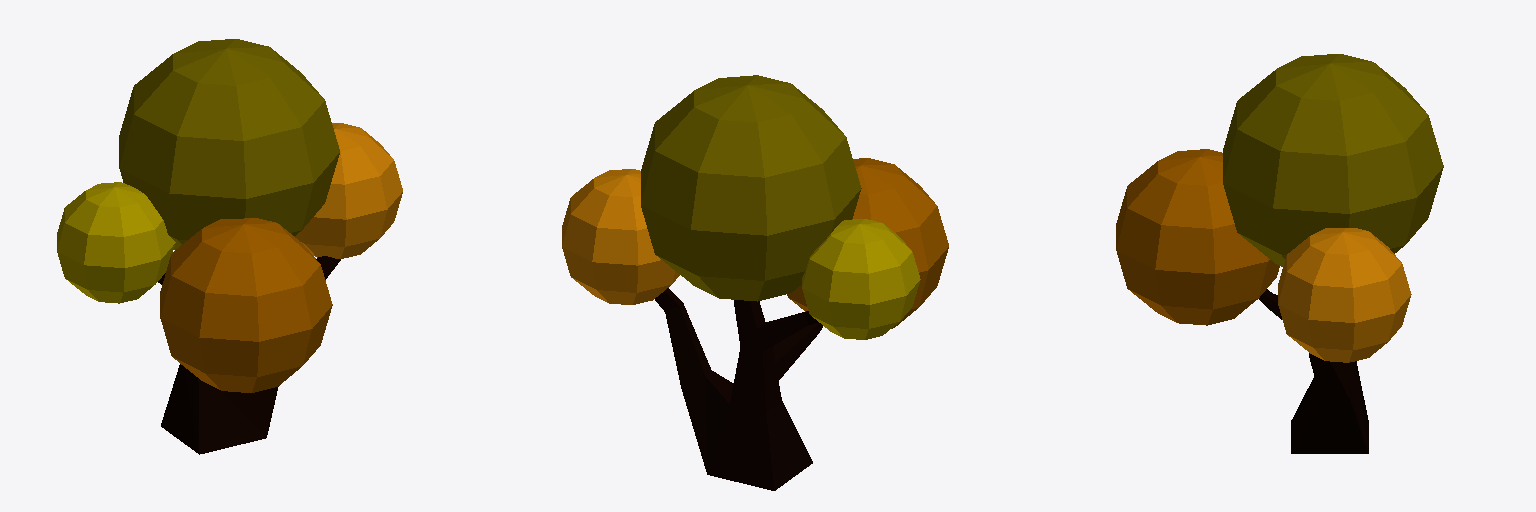
File: Tree4.obj
3 renders of one model, left to right at view 1: azimuth 30°, elevation 25°; view 2: azimuth 150°, elevation 25°; view 3: azimuth 270°, elevation 25°, orthographic.
Visible parts, largest first — view 1: Sphere.002, Sphere.003_Sphere.004, Sphere.001, Sphere.004_Sphere.003, Cube; view 2: Sphere.002, Cube, Sphere.001, Sphere.004_Sphere.003, Sphere.003_Sphere.004; view 3: Sphere.002, Sphere.003_Sphere.004, Sphere.004_Sphere.003, Cube.
Boxes of the visible parts, <box> form: Sphere.002: <box>119,39,339,249</box>; Sphere.003_Sphere.004: <box>160,218,332,392</box>; Sphere.001: <box>57,182,175,303</box>; Sphere.004_Sphere.003: <box>294,123,402,258</box>; Cube: <box>158,256,340,454</box>; Sphere.002: <box>641,75,861,301</box>; Cube: <box>655,288,822,490</box>; Sphere.001: <box>802,219,920,339</box>; Sphere.004_Sphere.003: <box>562,169,679,304</box>; Sphere.003_Sphere.004: <box>787,158,948,328</box>; Sphere.002: <box>1223,54,1443,266</box>; Sphere.003_Sphere.004: <box>1116,149,1279,325</box>; Sphere.004_Sphere.003: <box>1278,228,1411,362</box>; Cube: <box>1259,289,1368,453</box>.
Bounding box in the file's own units: 10.01 × 10.8 × 8.42.